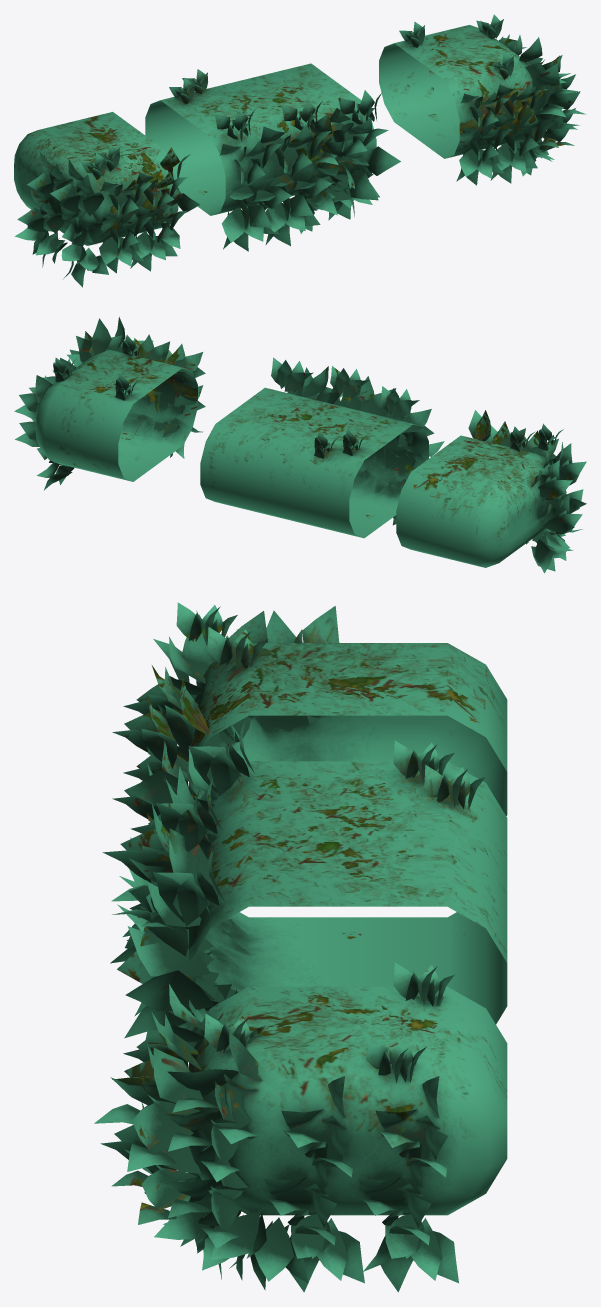
File: List2.fbx
3 renders of one model, top to bottom at view 1: azimuth 30°, elevation 25°; view 2: azimuth 150°, elevation 25°; view 3: azimuth 270°, elevation 25°, orthographic. The views are drawn at different scales.
Visible parts, largest first — view 1: List_002, List_003, List_041; view 2: List_002, List_041, List_003; view 3: List_003, List_002, List_041.
Boxes of the visible parts, bbox=[...] form: List_002: bbox=[145, 63, 400, 251]; List_003: bbox=[379, 14, 586, 185]; List_041: bbox=[14, 112, 200, 287]; List_002: bbox=[200, 357, 444, 538]; List_041: bbox=[396, 410, 586, 573]; List_003: bbox=[14, 316, 205, 490]; List_003: bbox=[94, 962, 507, 1292]; List_002: bbox=[102, 720, 507, 1069]; List_041: bbox=[112, 602, 507, 821].
Size of the model in its own units: 715 by 183 by 240.
